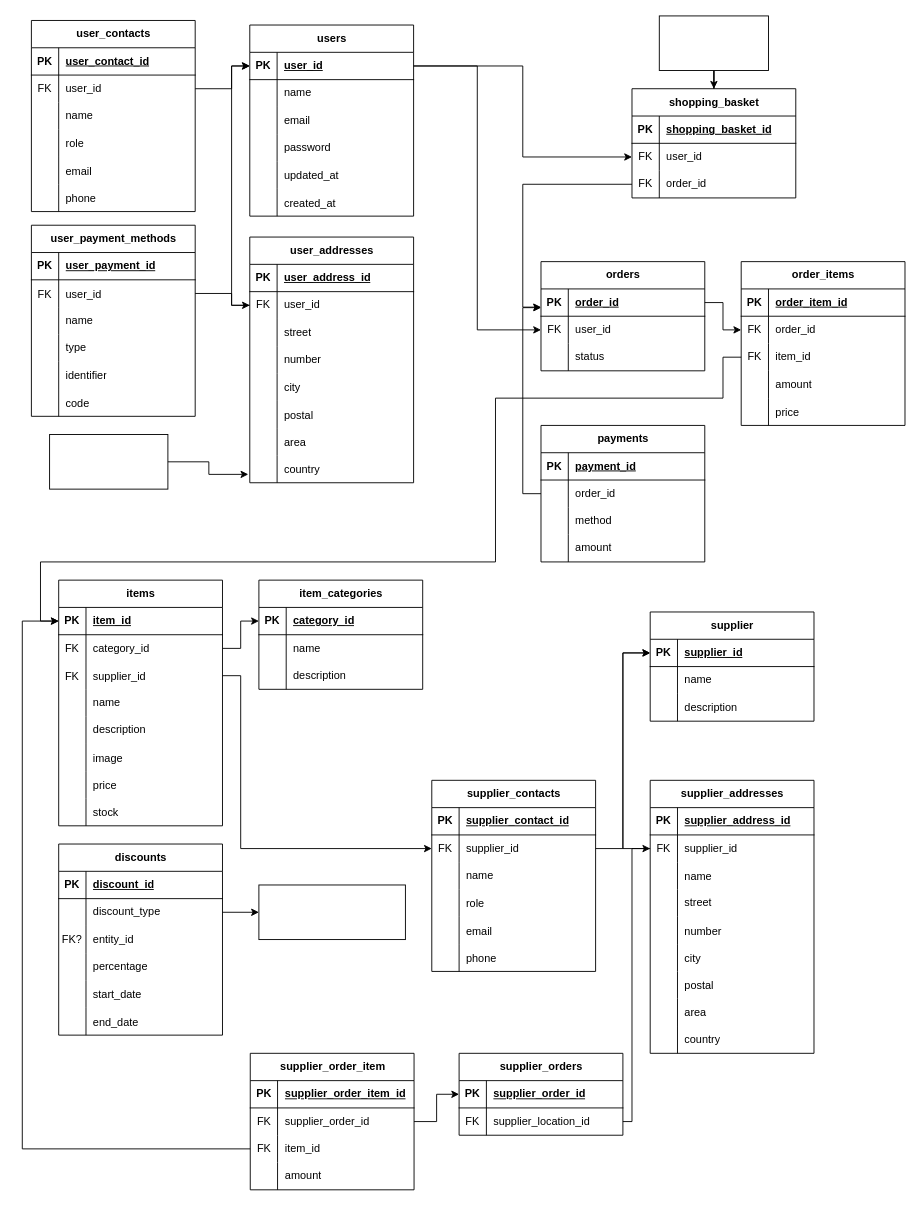
Some shapes in this 921 by 1206 pixel diagram are drawn without their labels. The shapes that lost their labels are listed below. From the top down, each one's centre as x and y in pixels, then its label:
(713,43): Used to temporarily remove stock counts and avoid spoofing
(108,461): Country and area is filled in from an API or package
(331,912): Type is item or category. Entity_id is item_id or category_id.
